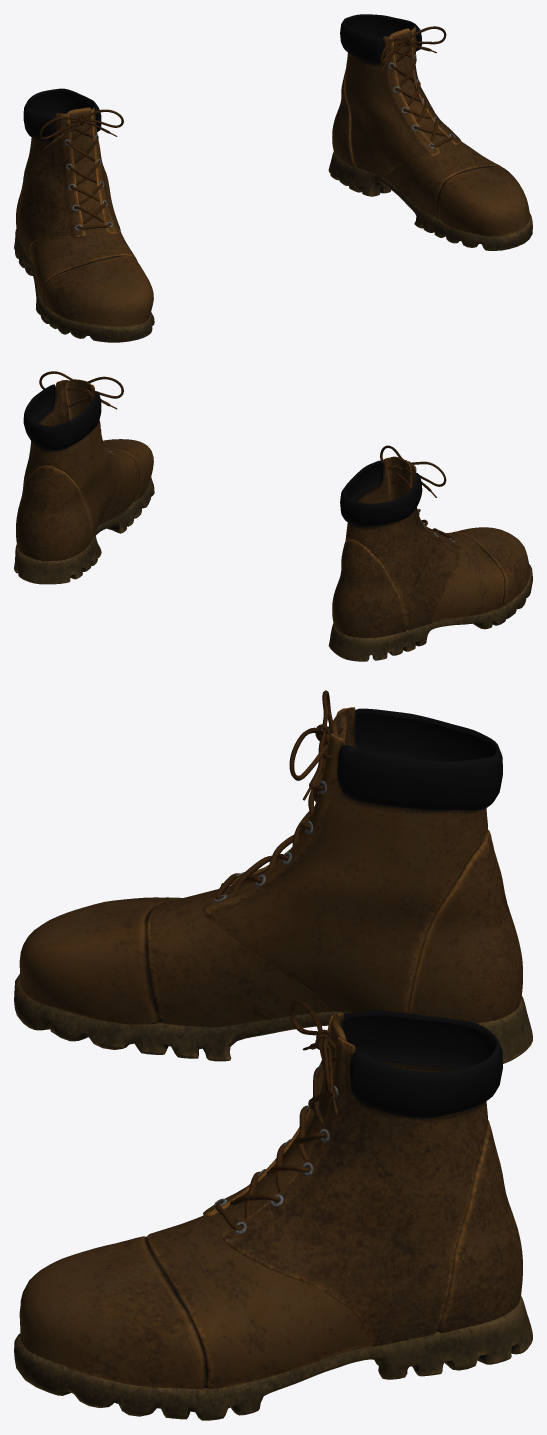
File: nan_xiazi_jueyuan.FBX
3 renders of one model, top to bottom at view 1: azimuth 30°, elevation 25°; view 2: azimuth 150°, elevation 25°; view 3: azimuth 270°, elevation 25°, orthographic. The views are drawn at different scales.
Parts seen in each view (by area): view 1: xiezi_jueyuan; view 2: xiezi_jueyuan; view 3: xiezi_jueyuan.
Part boxes in pixels (x1,y1,x2,y2): xiezi_jueyuan: (14,14,532,342); xiezi_jueyuan: (14,371,532,661); xiezi_jueyuan: (14,690,532,1420).
Bounding box in the file's own units: 61.91 × 22.29 × 30.95.
